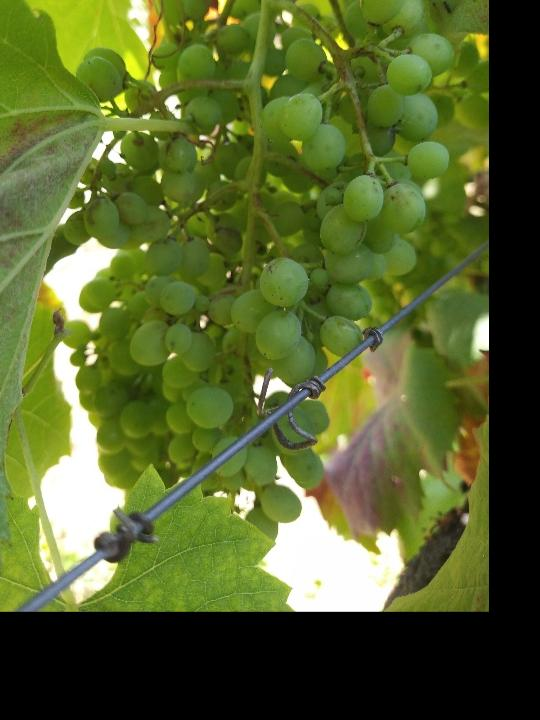grape: (62, 0, 466, 544)
